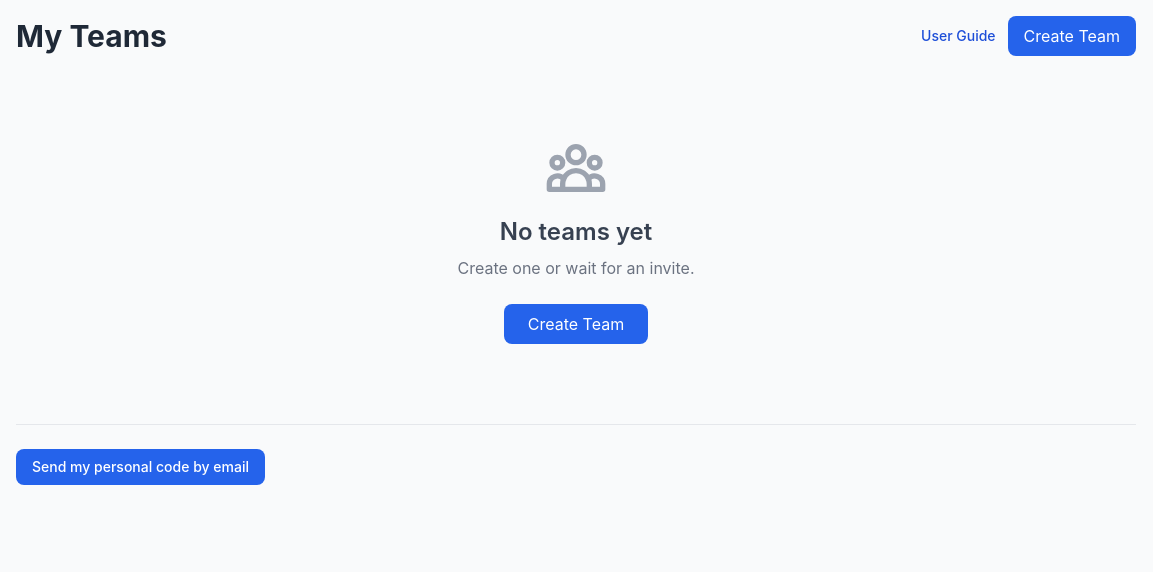
it: TeamsList › sends privacy code email and shows success toast
The image size is (1153, 572).
Click the button "Send my personal code by email". click: (140, 467)
box: [16,449,265,485]
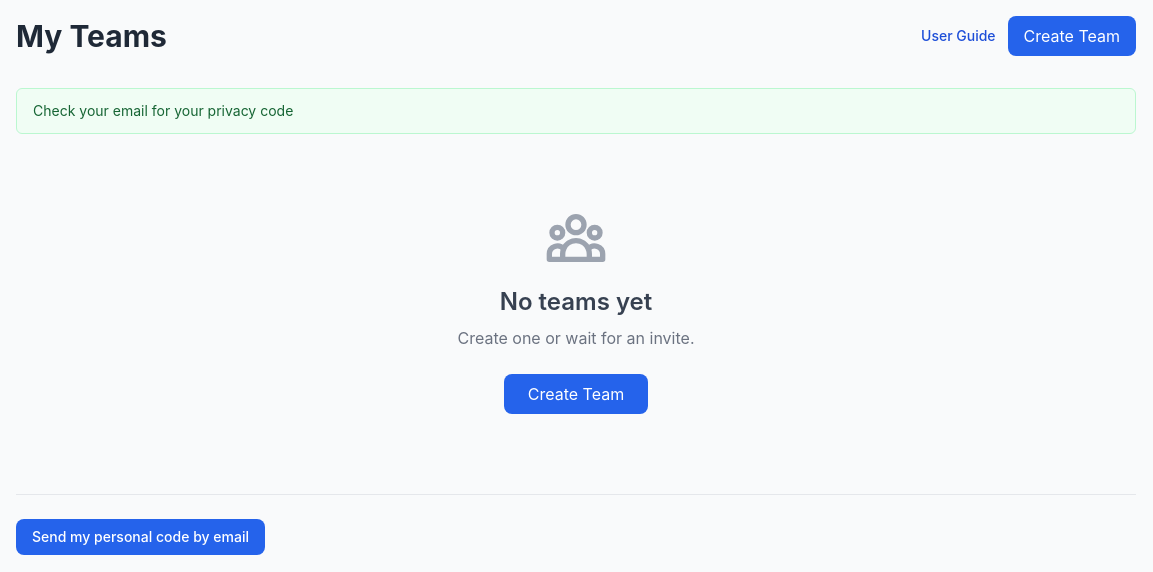
Result: the text "Check your email for your privacy code" is shown at [16,88,1136,134]
